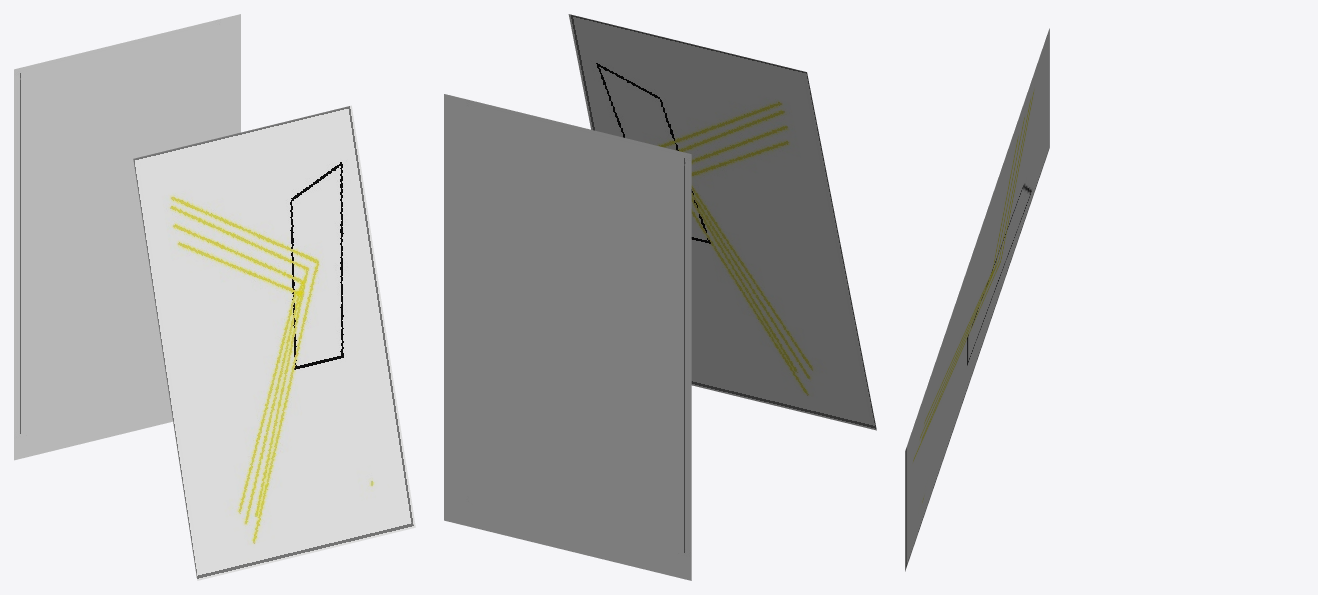
File: Detouch light.glb
3 views of the same model, side by side, from view 1: azimuth 30°, elevation 25°; view 2: azimuth 150°, elevation 25°; view 3: azimuth 270°, elevation 25° (orthographic). The views are drawn at different scales.
Parts seen in each view (by area): view 1: mesh_id29, mesh_id1; view 2: mesh_id1, mesh_id29; view 3: mesh_id29.
Boxes of the visible parts, left/top/right/bottom form: mesh_id29: left=133, top=105, right=415, bottom=580; mesh_id1: left=14, top=14, right=240, bottom=460; mesh_id1: left=444, top=94, right=691, bottom=580; mesh_id29: left=568, top=14, right=876, bottom=430; mesh_id29: left=905, top=28, right=1049, bottom=571.
Size of the model in its own units: 0.272 by 0.448 by 0.3665.
2 materials, 2 textured.
